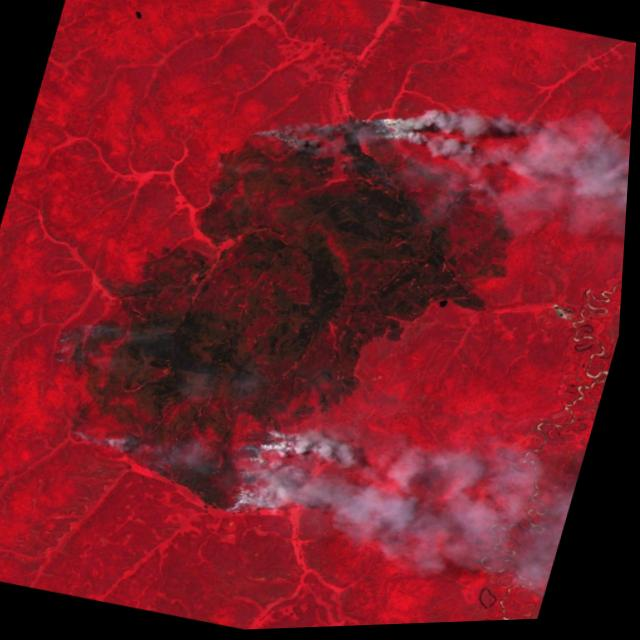fire: (237, 84, 522, 219), (223, 422, 304, 527), (49, 303, 119, 379), (66, 411, 149, 460)
